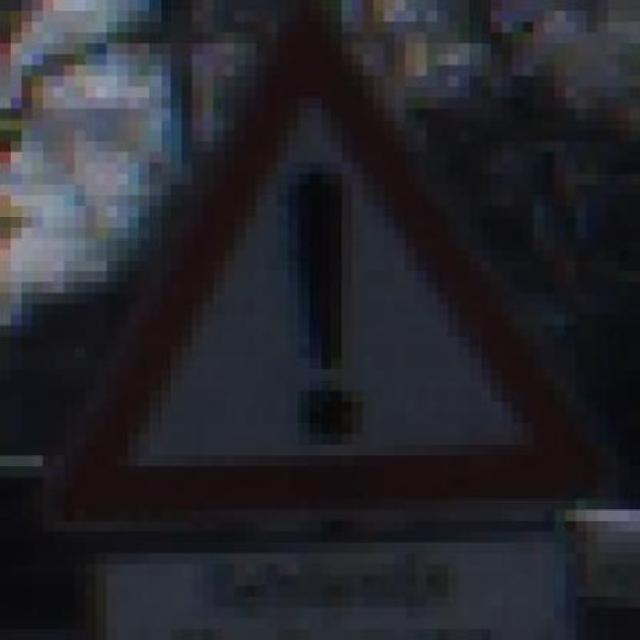Attention Please-: (64, 21, 598, 522)
